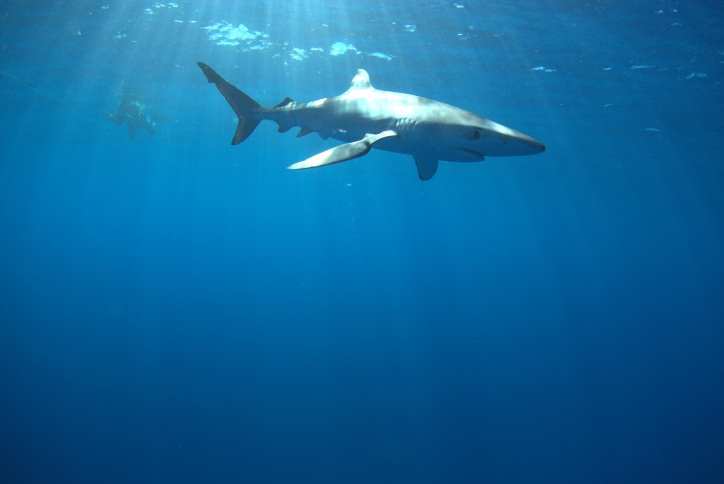Azul: (179, 42, 551, 204)
